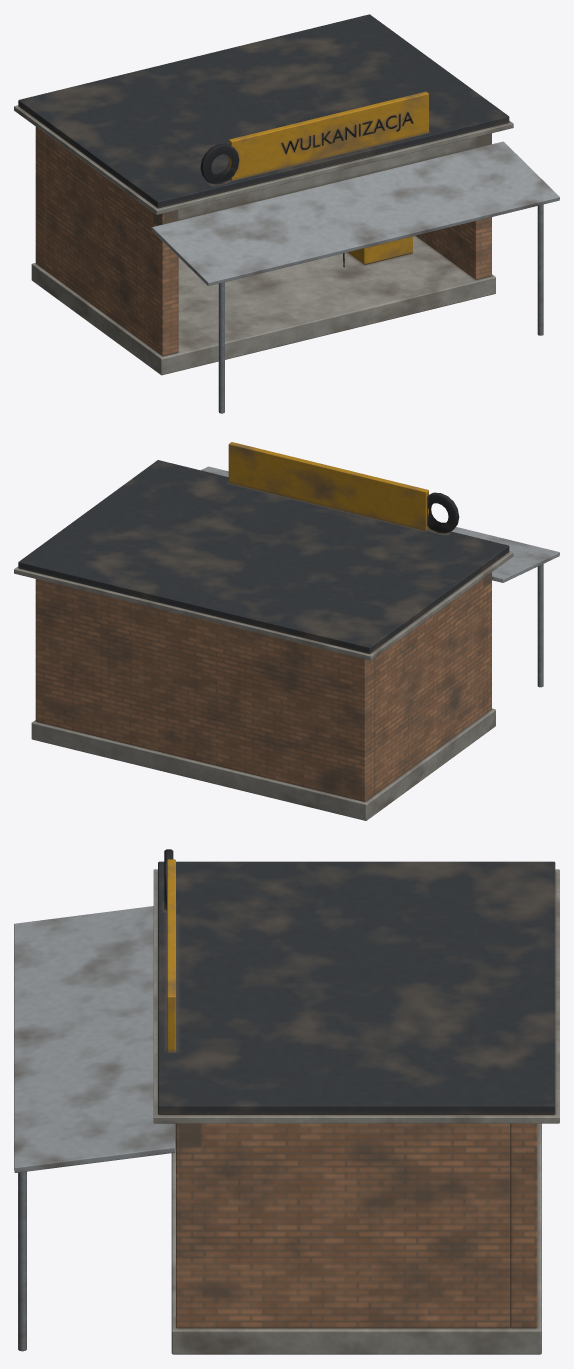
The model's file is wulkan_budka.glb.
The picture shows the model from 3 angles, top to bottom: view 1: azimuth 30°, elevation 25°; view 2: azimuth 150°, elevation 25°; view 3: azimuth 270°, elevation 25°; orthographic projection. The views are drawn at different scales.
Visible parts, largest first — view 1: Wulkanizacja, Napisy; view 2: Wulkanizacja; view 3: Wulkanizacja.
Boxes of the visible parts, left/top/right/bottom form: Wulkanizacja: left=14, top=14, right=559, bottom=413; Napisy: left=281, top=112, right=413, bottom=154; Wulkanizacja: left=14, top=442, right=559, bottom=820; Wulkanizacja: left=14, top=849, right=559, bottom=1354.
Bounding box in the file's own units: 6.5 × 3.8 × 6.04.
Materials: 2 (2 with a texture image).
